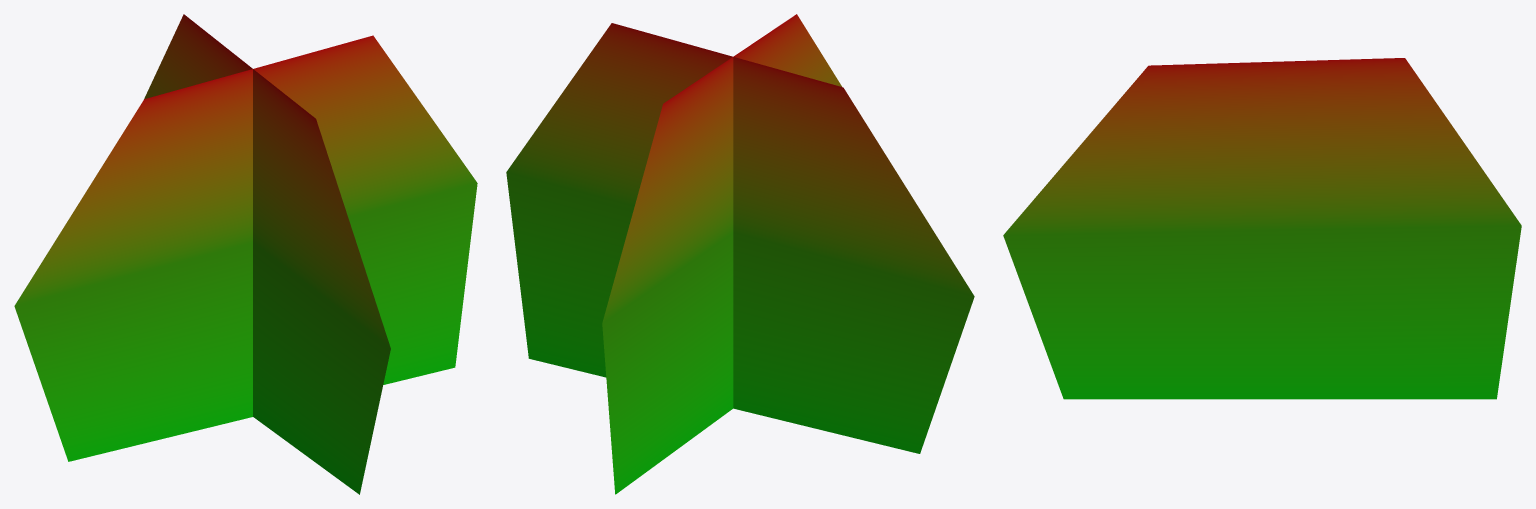
The model's file is Var6_LOD5.fbx.
3 views of the same model, side by side, from view 1: azimuth 30°, elevation 25°; view 2: azimuth 150°, elevation 25°; view 3: azimuth 270°, elevation 25° (orthographic). The views are drawn at different scales.
Visible parts, largest first — view 1: _0p03_Var6_LOD5; view 2: _0p03_Var6_LOD5; view 3: _0p03_Var6_LOD5.
Part boxes in pixels (box(x1,y1,x2,y2)): _0p03_Var6_LOD5: box(14, 14, 477, 494); _0p03_Var6_LOD5: box(506, 14, 974, 494); _0p03_Var6_LOD5: box(1003, 58, 1521, 399).
Size of the model in its own units: 82.32 by 59.8 by 82.32.
